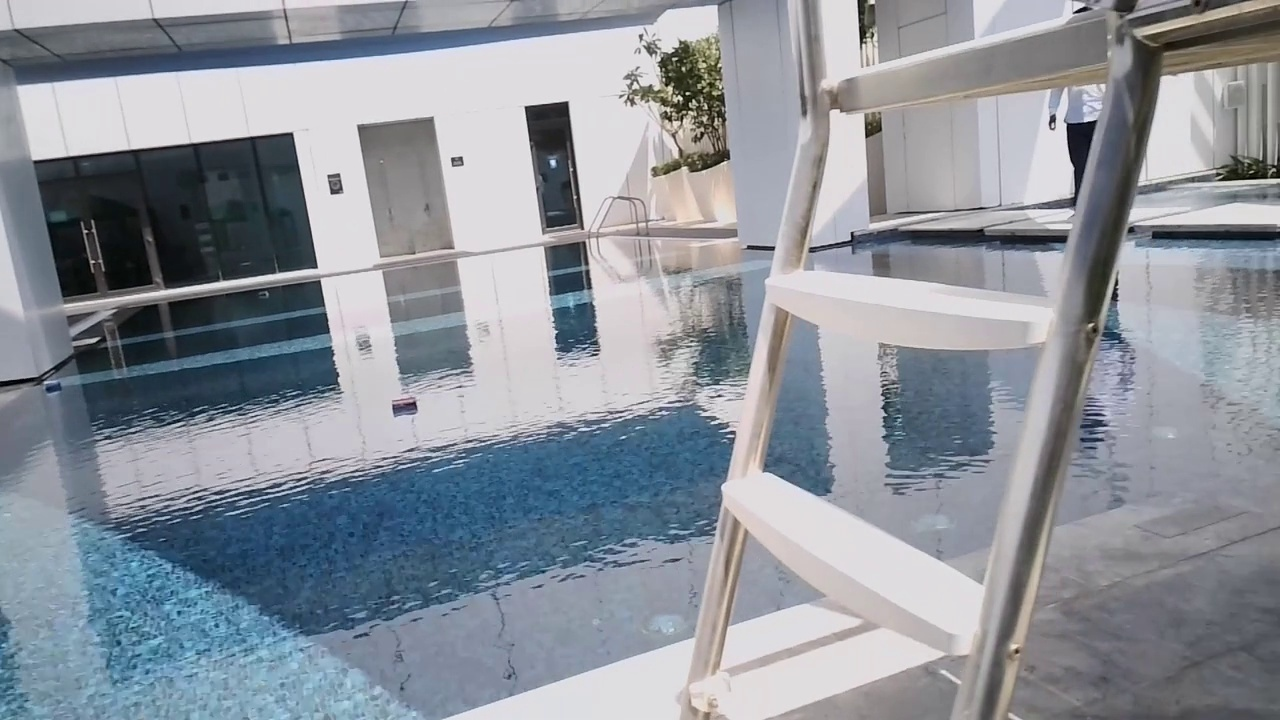debris: (387, 392, 420, 419), (40, 376, 68, 399), (254, 290, 272, 301)
